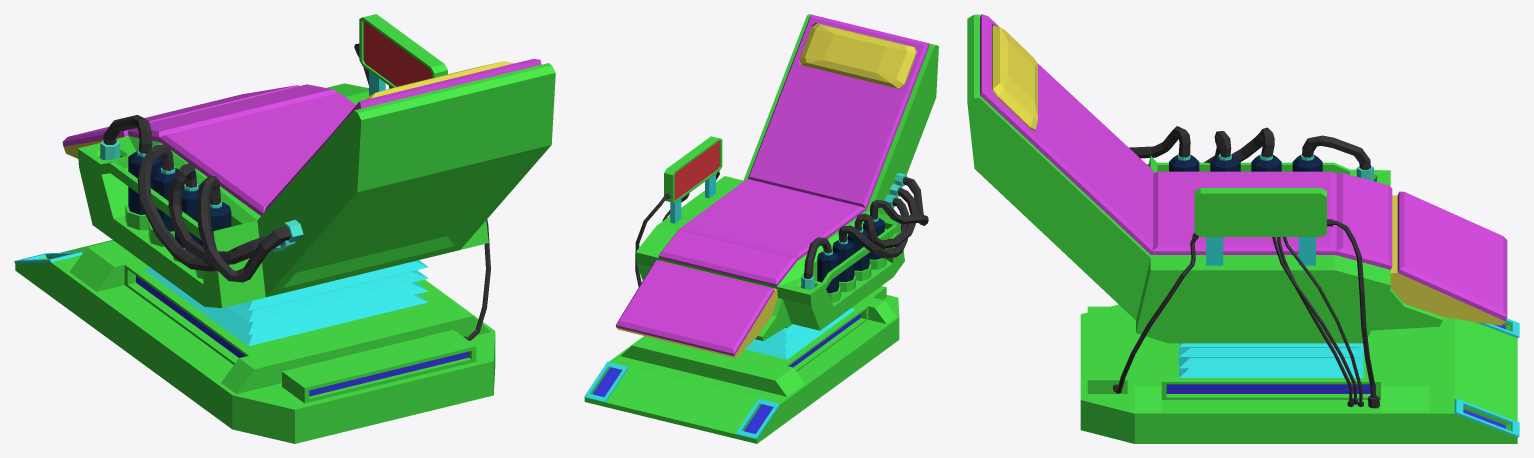
Rendered from Chair_07_Ripperdocs_B.fbx.
The picture shows the model from 3 angles, left to right: view 1: azimuth 30°, elevation 25°; view 2: azimuth 150°, elevation 25°; view 3: azimuth 270°, elevation 25°; orthographic projection. The views are drawn at different scales.
Parts seen in each view (by area): view 1: Chair_07_Ripperdocs_B; view 2: Chair_07_Ripperdocs_B; view 3: Chair_07_Ripperdocs_B.
Boxes of the visible parts, x1,y1,x2,y2 form: Chair_07_Ripperdocs_B: (14, 14, 555, 443); Chair_07_Ripperdocs_B: (584, 14, 938, 443); Chair_07_Ripperdocs_B: (967, 14, 1519, 443).
Size of what is drawn, in the model's own units: 135 by 161 by 240.
